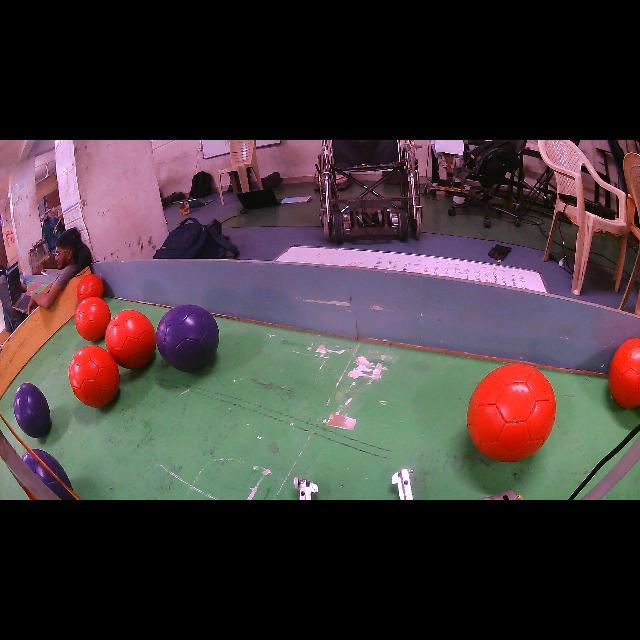P: (156, 305, 219, 371), (14, 382, 51, 438)
R: (468, 364, 556, 461), (69, 345, 120, 408), (105, 310, 156, 369), (609, 339, 640, 408), (75, 296, 111, 341), (76, 274, 104, 302)
